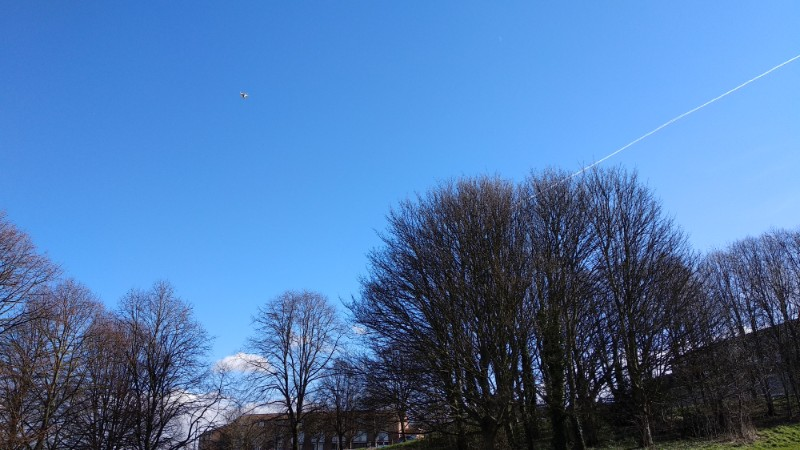drone: (237, 89, 249, 99)
